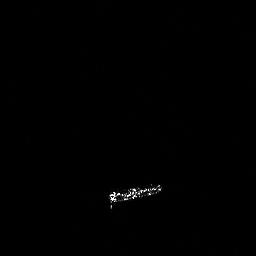ship: (108, 183, 163, 209)
